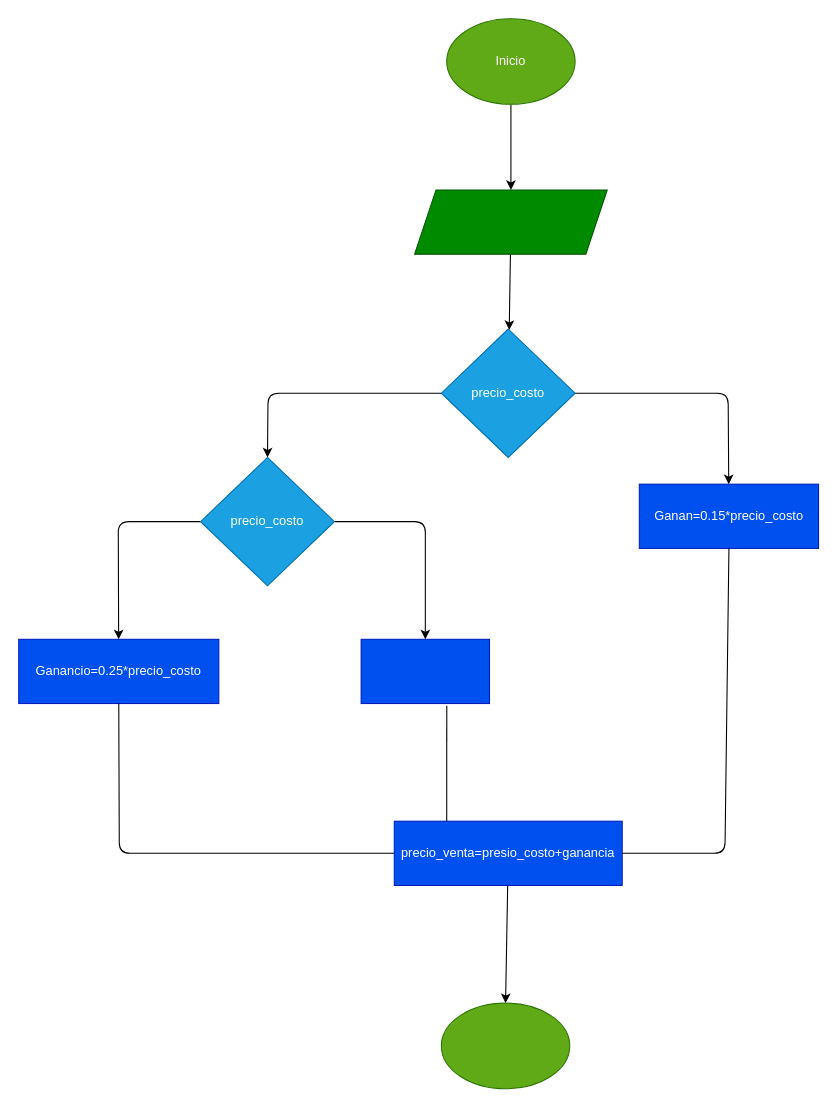
Some shapes in this 838 by 1107 pixel diagram are drawn without their labels. The centre of each missing label's shape, as x and y in pixels:
Fin: (x=505, y=1045)
Ganancia 500: (x=425, y=671)
precio_costo<3000: (x=510, y=221)
